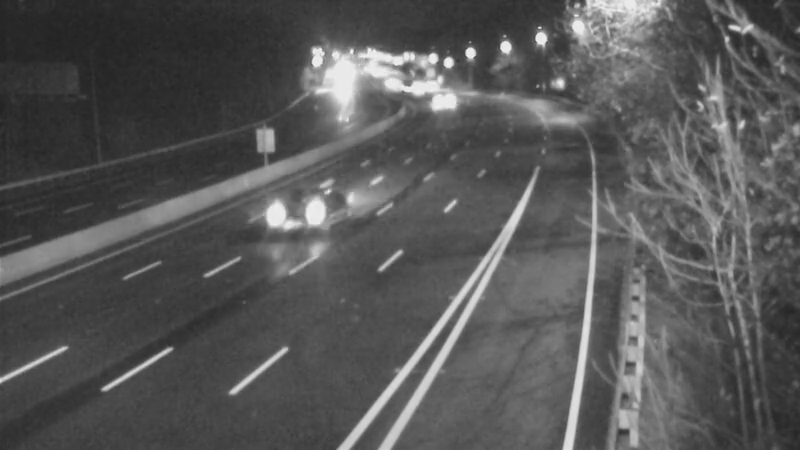vehicle: (257, 179, 337, 259), (391, 63, 441, 113), (420, 75, 470, 125)
